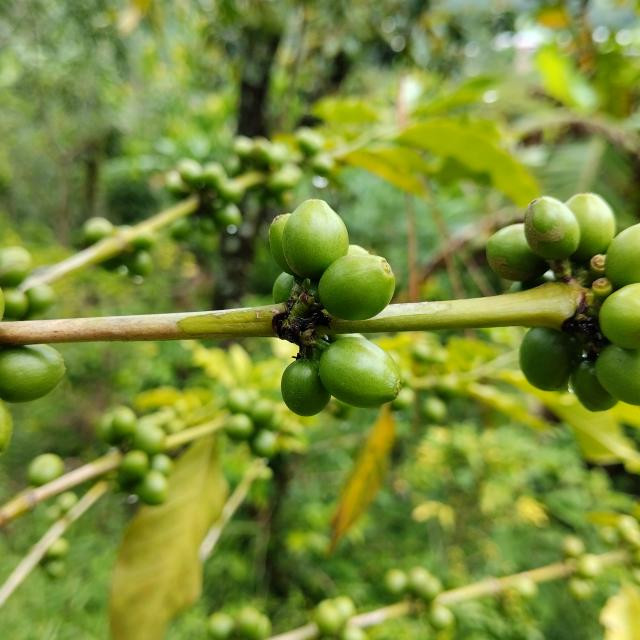green: (319, 337, 402, 408), (282, 199, 349, 279), (318, 253, 396, 321), (520, 327, 583, 391), (0, 344, 65, 403), (487, 223, 550, 281), (525, 196, 581, 260), (566, 192, 617, 262), (281, 359, 331, 417), (596, 344, 640, 406), (600, 283, 640, 349), (606, 223, 640, 288), (269, 213, 295, 275), (273, 272, 294, 304), (347, 244, 369, 254)
